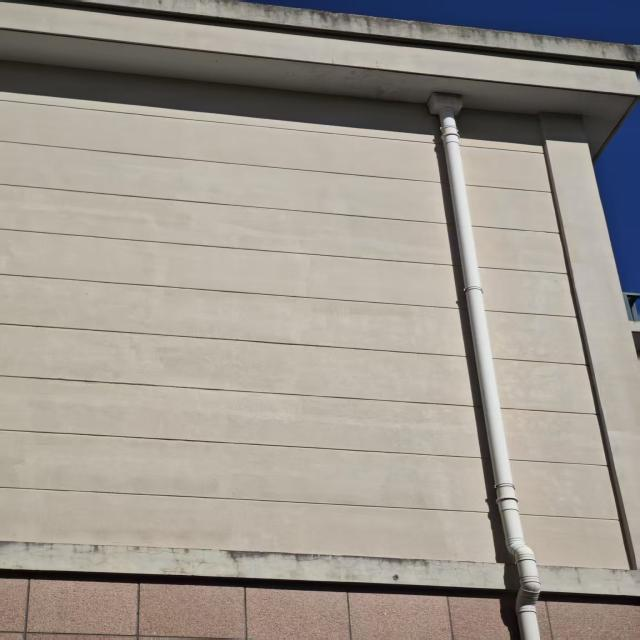efflorescence: (2, 181, 478, 557), (487, 246, 606, 513)
mildew: (115, 3, 634, 62)
